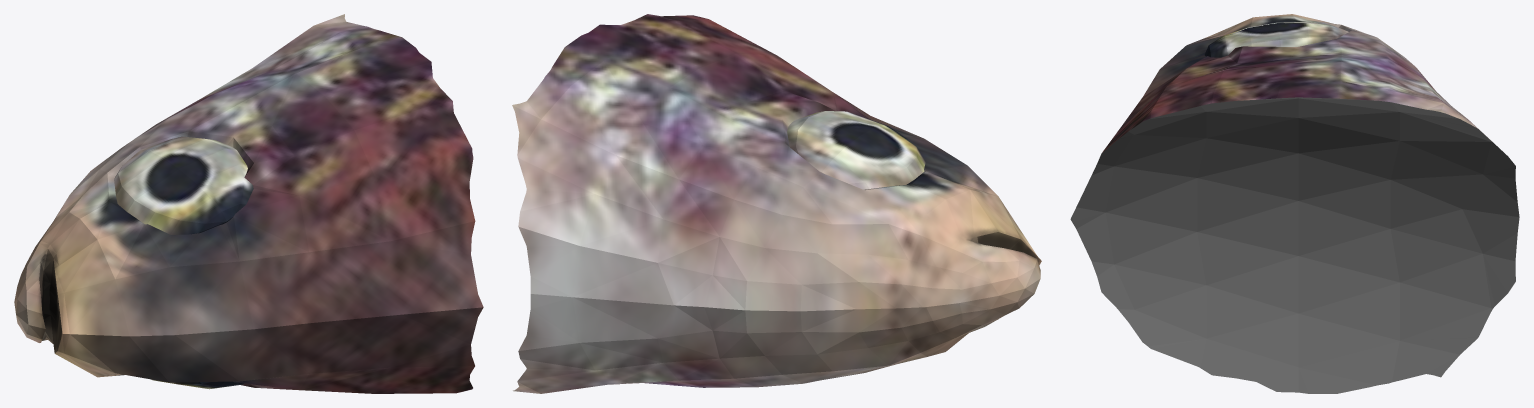
File: link_0_composite.obj
The picture shows the model from 3 angles, left to right: view 1: azimuth 30°, elevation 25°; view 2: azimuth 150°, elevation 25°; view 3: azimuth 270°, elevation 25°; orthographic projection. The views are drawn at different scales.
Visible parts, largest first — view 1: link_0_visual; view 2: link_0_visual; view 3: link_0_visual.
Boxes of the visible parts, left/top/right/bottom form: link_0_visual: left=14, top=14, right=483, bottom=393; link_0_visual: left=512, top=14, right=1041, bottom=393; link_0_visual: left=1070, top=14, right=1519, bottom=393.
Size of the model in its own units: 0.00254 by 0.0018 by 0.00247.
1 material, 1 textured.
